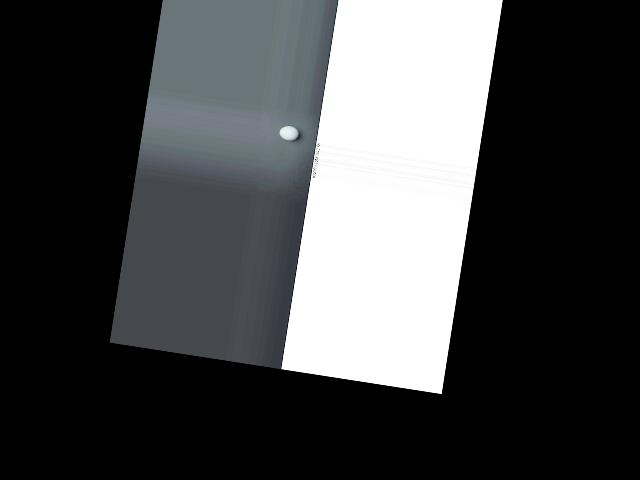egg: (278, 124, 299, 142)
